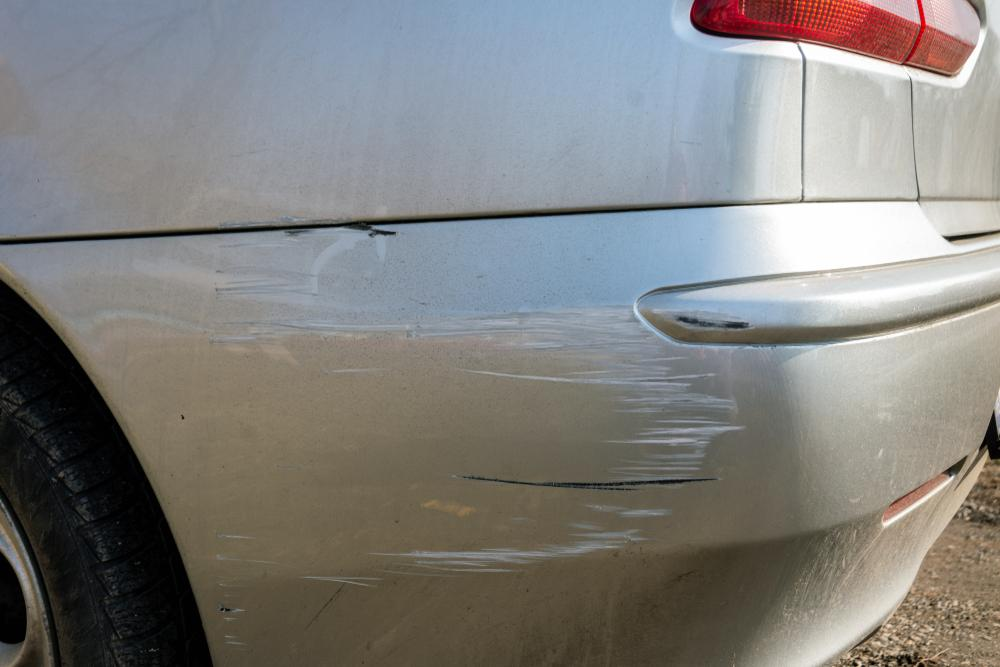scratch: (209, 221, 762, 667)
